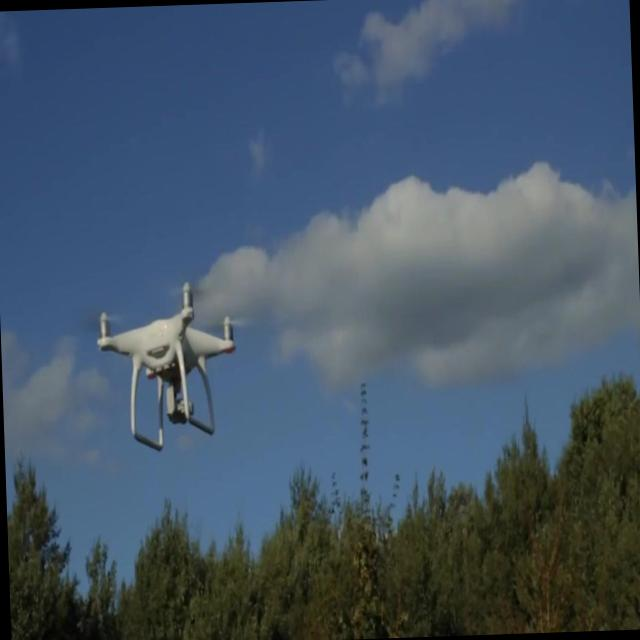drone: (97, 279, 240, 452)
